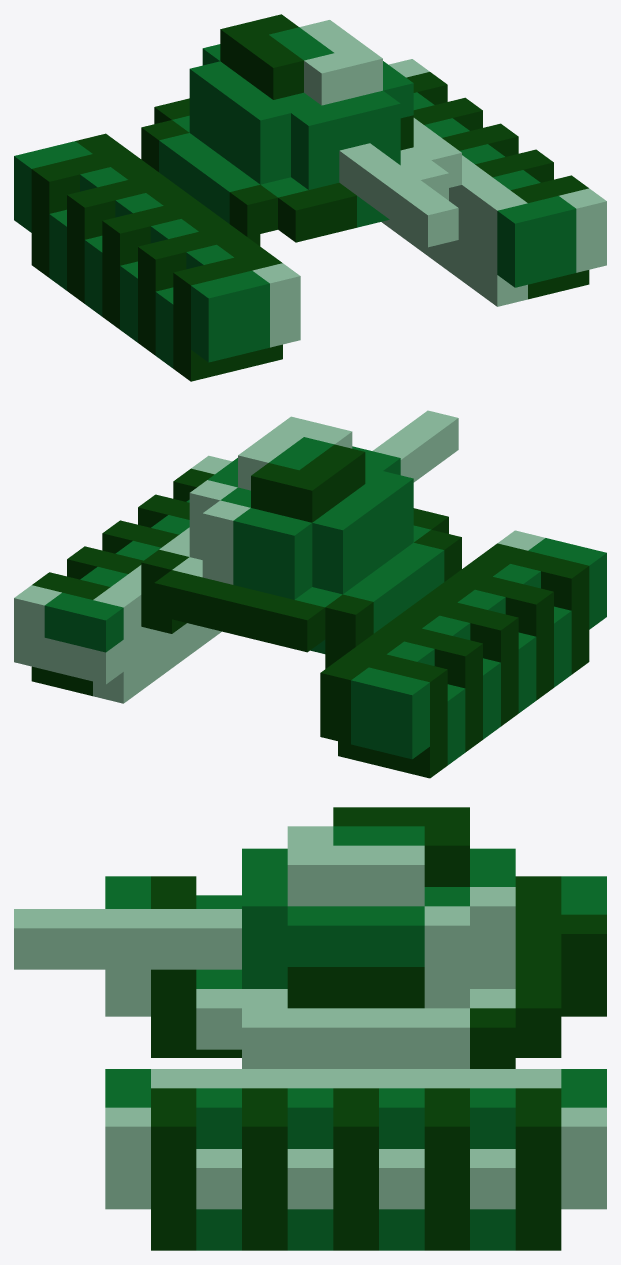
The model's file is fast_green_tank.glb.
The picture shows the model from 3 angles, top to bottom: view 1: azimuth 30°, elevation 25°; view 2: azimuth 150°, elevation 25°; view 3: azimuth 270°, elevation 25°; orthographic projection. The views are drawn at different scales.
Parts seen in each view (by area): view 1: Object_2.012; view 2: Object_2.012; view 3: Object_2.012.
Boxes of the visible parts, box(x1,y1,x2,y2) form: Object_2.012: box(14, 14, 606, 381); Object_2.012: box(14, 410, 606, 778); Object_2.012: box(14, 807, 606, 1250).
Size of the model in its own units: 13 by 7 by 13.
Materials: 1 (1 with a texture image).
